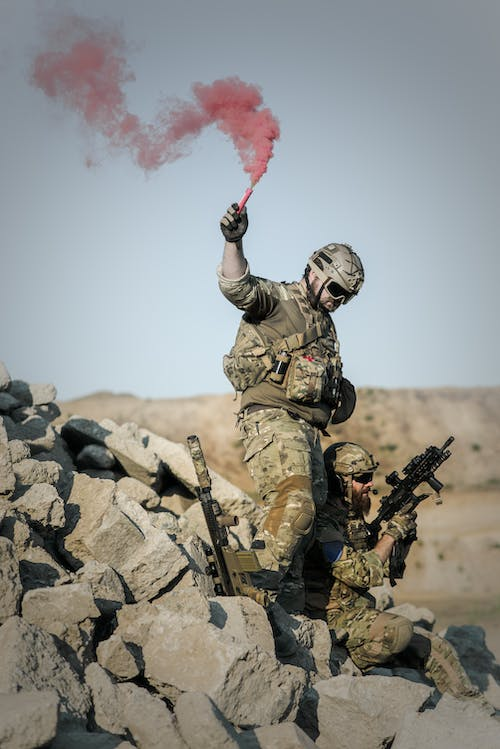gun: (183, 429, 272, 611), (360, 431, 457, 543)
